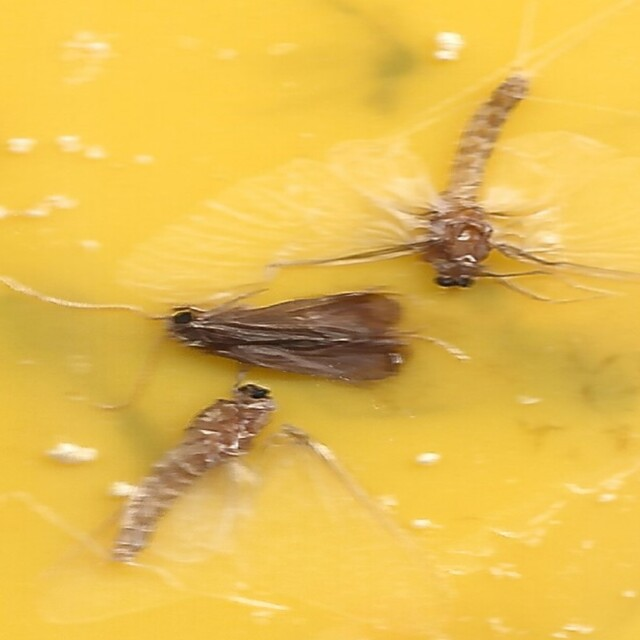Ephemeroptera: (105, 380, 284, 569), (427, 71, 535, 291)
Trichoptera: (167, 293, 407, 383)
